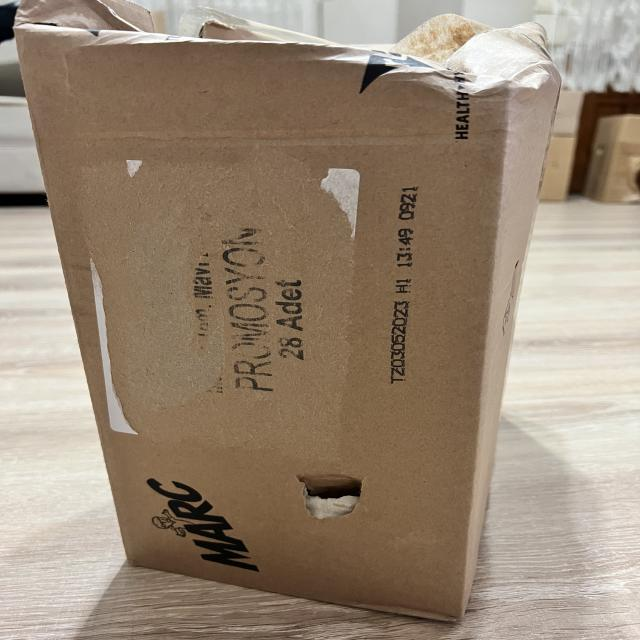damaged: (17, 10, 570, 625), (303, 17, 572, 119), (21, 0, 261, 67), (275, 458, 379, 530)
